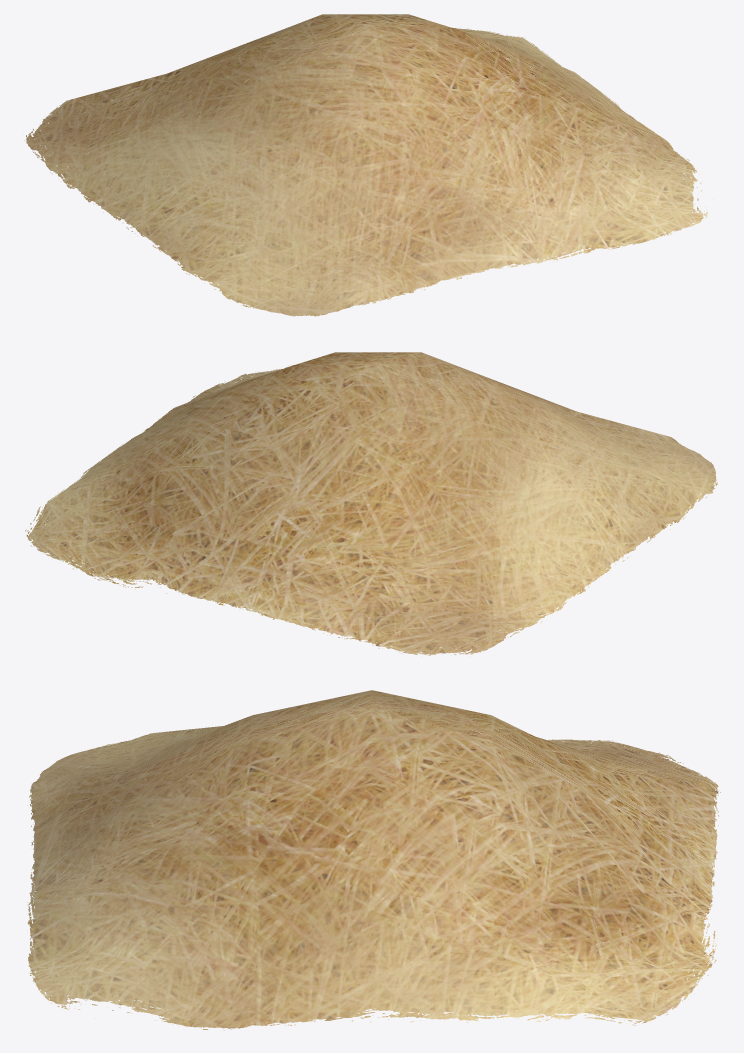
Rendered from PileOfHay.fbx.
3 renders of one model, top to bottom at view 1: azimuth 30°, elevation 25°; view 2: azimuth 150°, elevation 25°; view 3: azimuth 270°, elevation 25°, orthographic. The views are drawn at different scales.
Visible parts, largest first — view 1: pPlane2; view 2: pPlane2; view 3: pPlane2.
Boxes of the visible parts, x1,y1,x2,y2 form: pPlane2: [24, 14, 707, 316]; pPlane2: [25, 352, 717, 656]; pPlane2: [27, 690, 720, 1030].
Bounding box in the file's own units: 600 × 162 × 600.
Materials: 1 (1 with a texture image).
